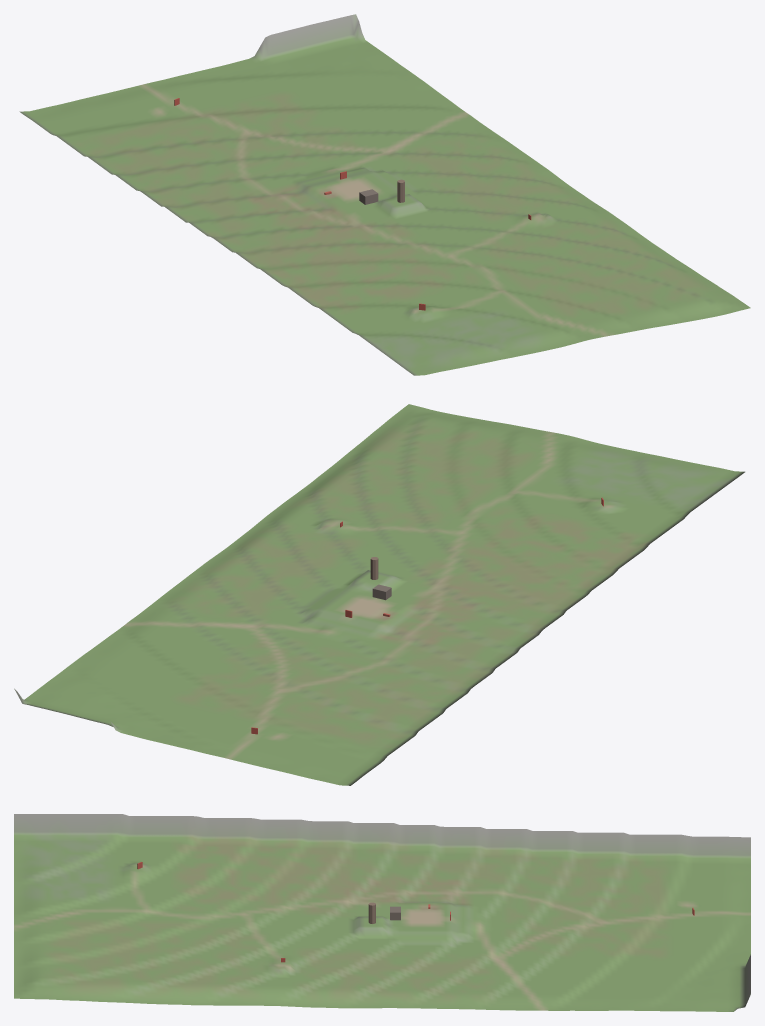
Rendered from horizon.glb.
3 views of the same model, one above another, from view 1: azimuth 30°, elevation 25°; view 2: azimuth 150°, elevation 25°; view 3: azimuth 270°, elevation 25° (orthographic). The views are drawn at different scales.
Visible parts, largest first — view 1: horizon_terrain, horizon_landmarks; view 2: horizon_terrain, horizon_landmarks; view 3: horizon_terrain, horizon_landmarks.
Part boxes in pixels (x1,y1,x2,y2): horizon_terrain: (19, 14, 750, 375); horizon_landmarks: (174, 98, 531, 310); horizon_terrain: (14, 404, 744, 785); horizon_landmarks: (251, 497, 603, 734); horizon_terrain: (14, 814, 750, 1011); horizon_landmarks: (137, 862, 694, 962).
Bounding box in the file's own units: 512 × 64.88 × 1024.
